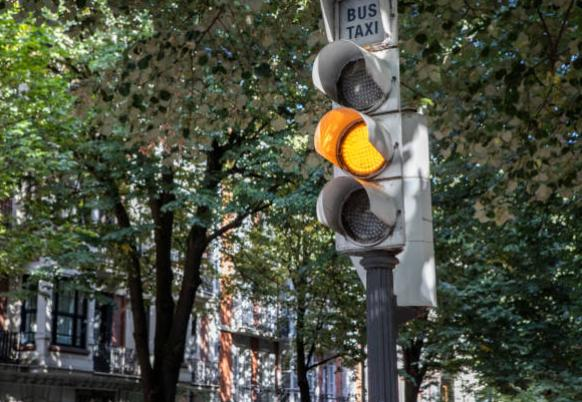yellow_light: (313, 39, 406, 252)
